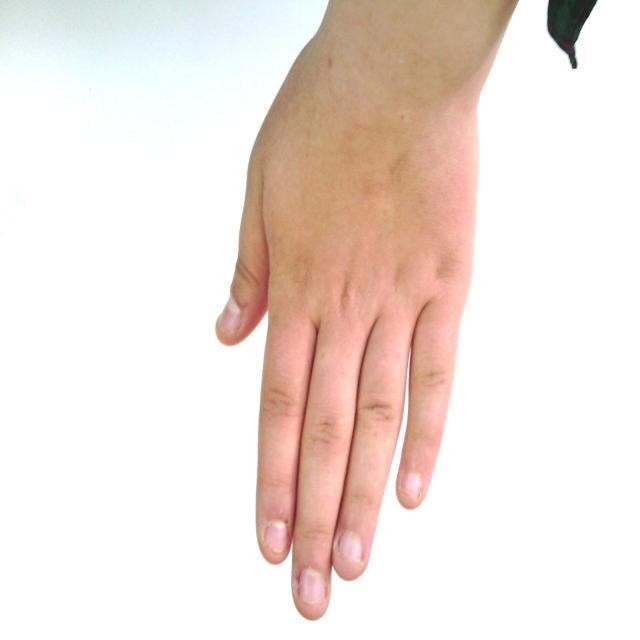Fingernail: (299, 569, 325, 603), (265, 522, 289, 554), (218, 300, 240, 334), (339, 534, 362, 561), (401, 473, 421, 498)
